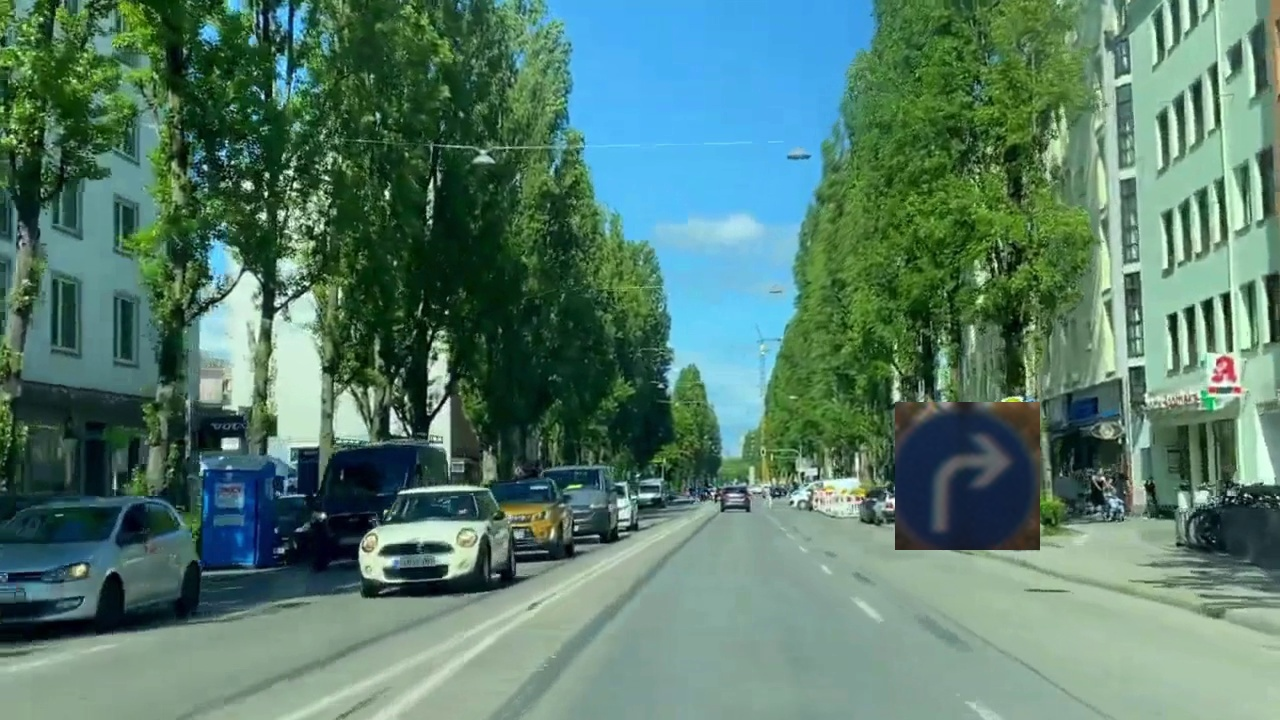Turn right: (895, 402, 1040, 550)
